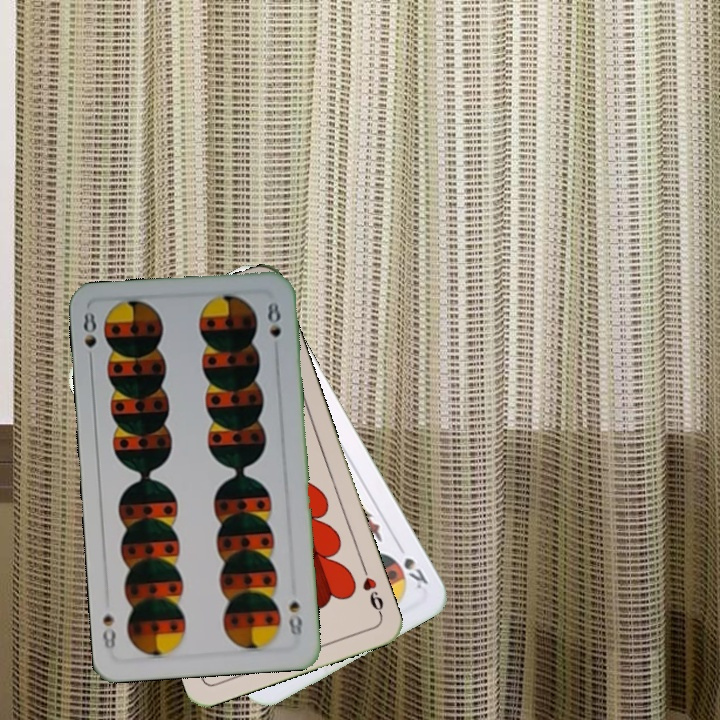H9: (358, 562, 386, 619)
S8: (79, 308, 99, 367), (284, 596, 305, 639)
SK: (392, 538, 431, 592)
